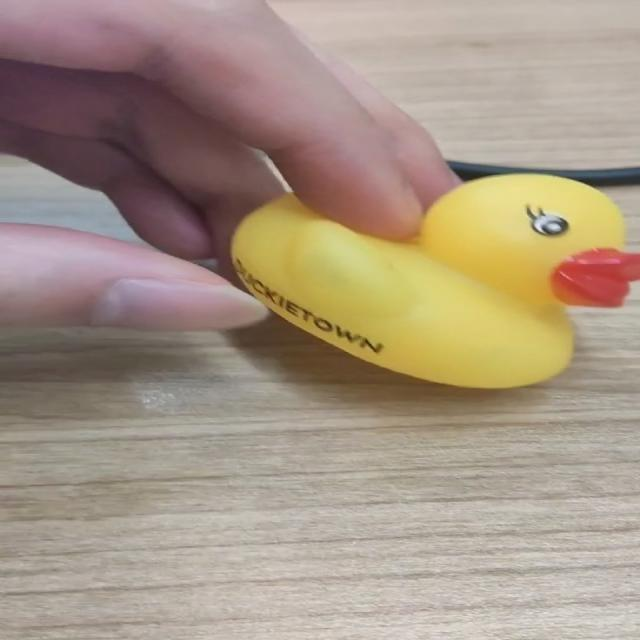rubber-duck: (231, 174, 638, 386)
